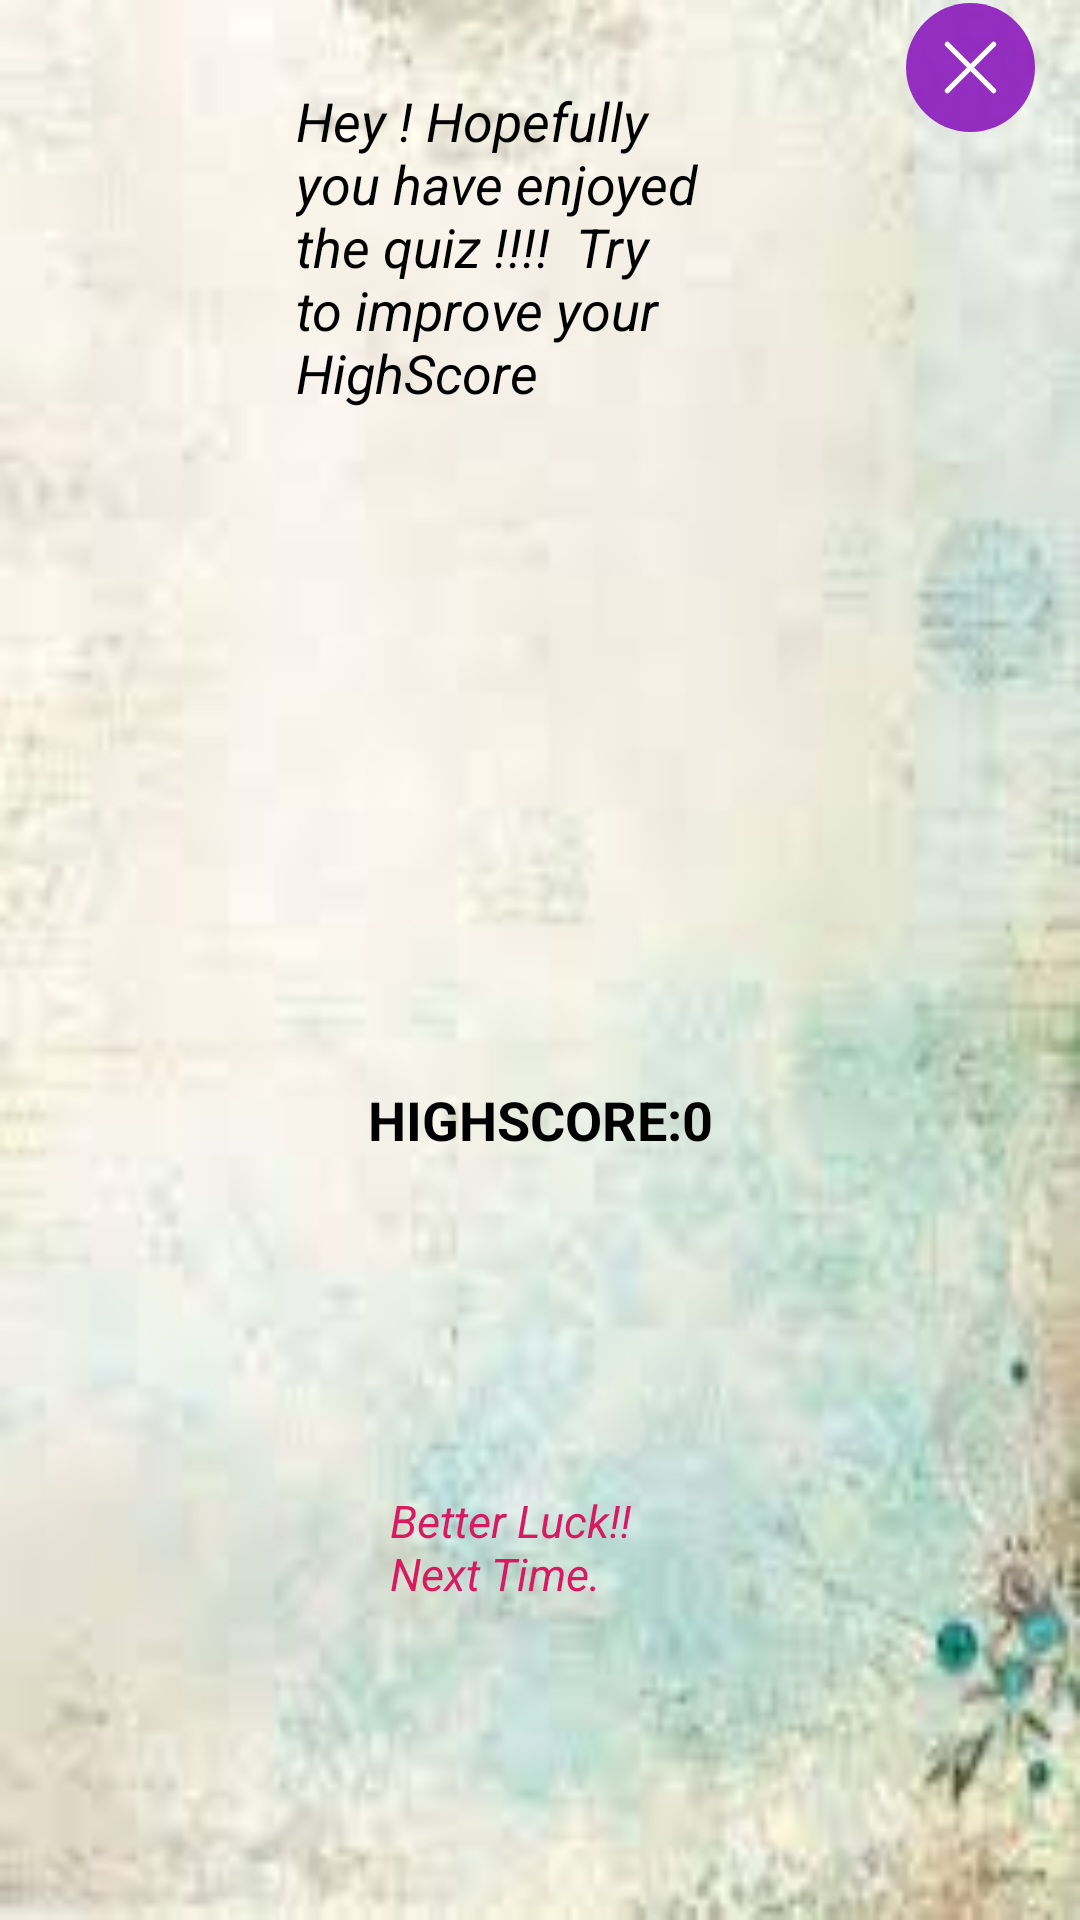

Screen size 1080x1920. Icon name, then its box in pixels as (x1, y1, x2, y2):
cross: (906, 3, 1035, 132)
